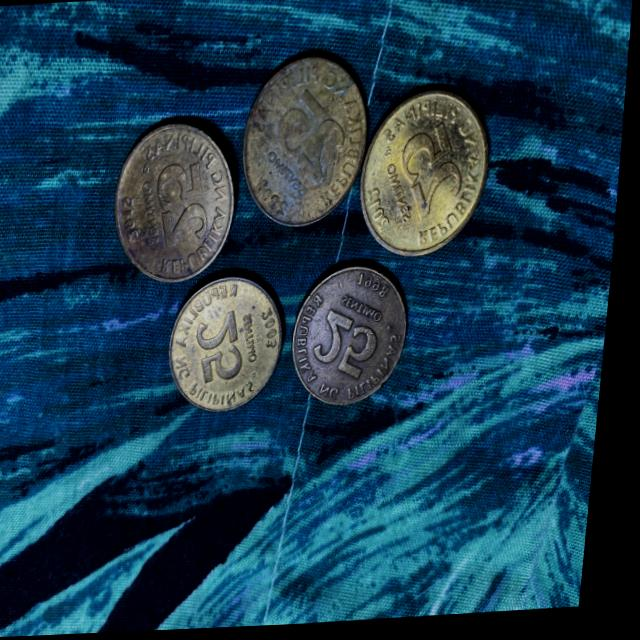25Cent_Old_Front: (271, 95, 348, 179), (397, 131, 467, 218), (152, 160, 218, 245), (316, 310, 390, 383), (196, 311, 255, 394)
